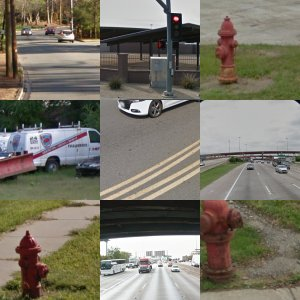公車: (1, 56, 41, 100)
汽車: (101, 232, 154, 288), (105, 134, 178, 167), (228, 182, 254, 201), (242, 259, 265, 280)
消防栓: (120, 24, 179, 99), (54, 129, 99, 201), (50, 206, 86, 278)
紅綠燈: (232, 234, 280, 247), (227, 25, 248, 40), (266, 20, 283, 36)
